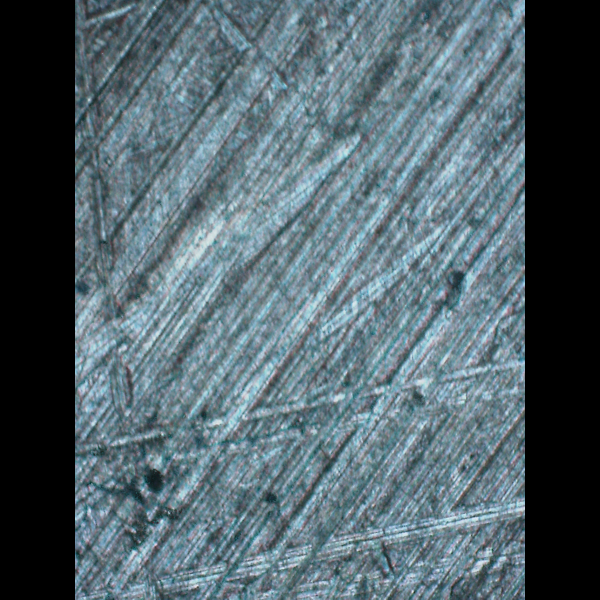d: (75, 354, 523, 487), (74, 0, 175, 567), (94, 493, 523, 600)
